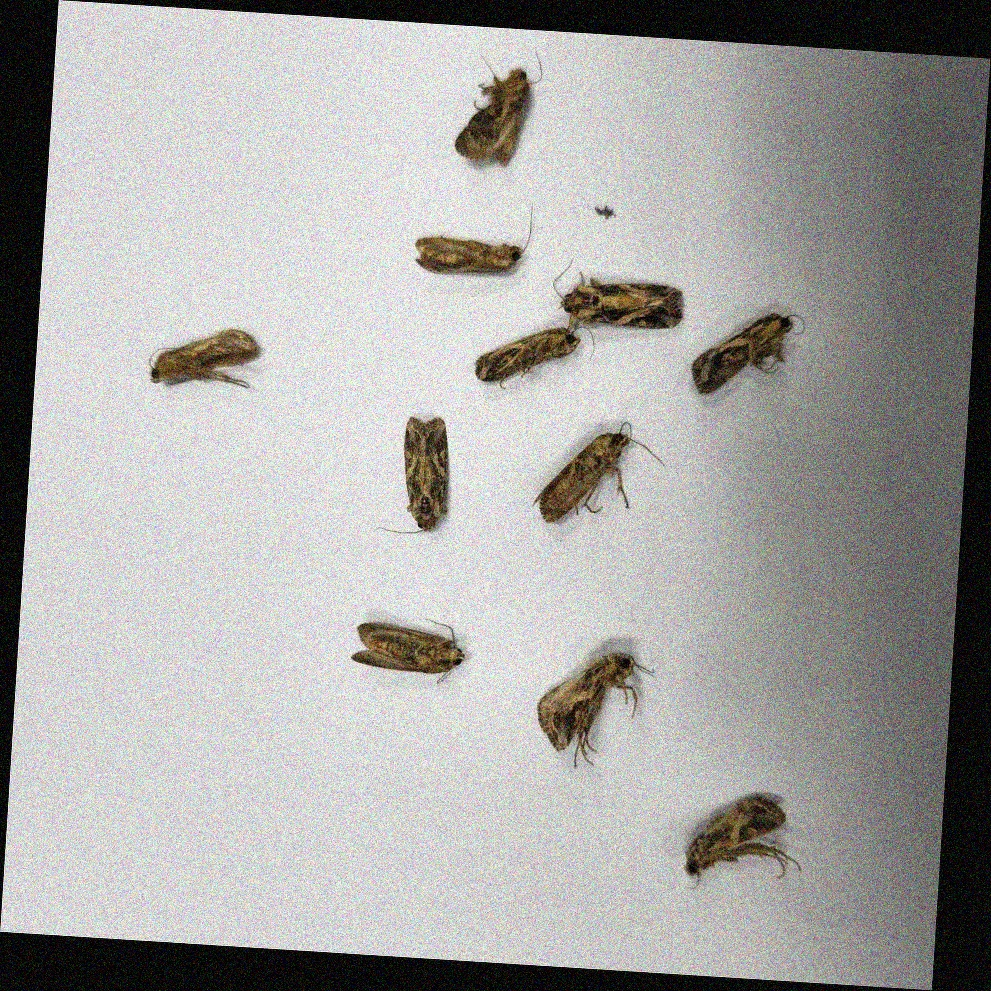Spodoptera litura: (534, 418, 664, 525), (536, 651, 653, 768), (685, 795, 804, 893), (456, 47, 541, 168), (691, 310, 804, 399), (551, 261, 685, 331), (415, 198, 531, 276), (377, 415, 449, 535), (475, 323, 595, 392), (350, 616, 466, 683), (148, 327, 260, 387)
